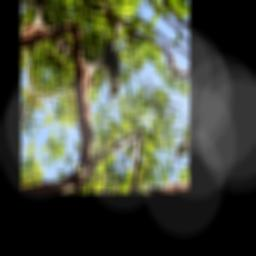Cuckoo: (74, 25, 138, 104)
